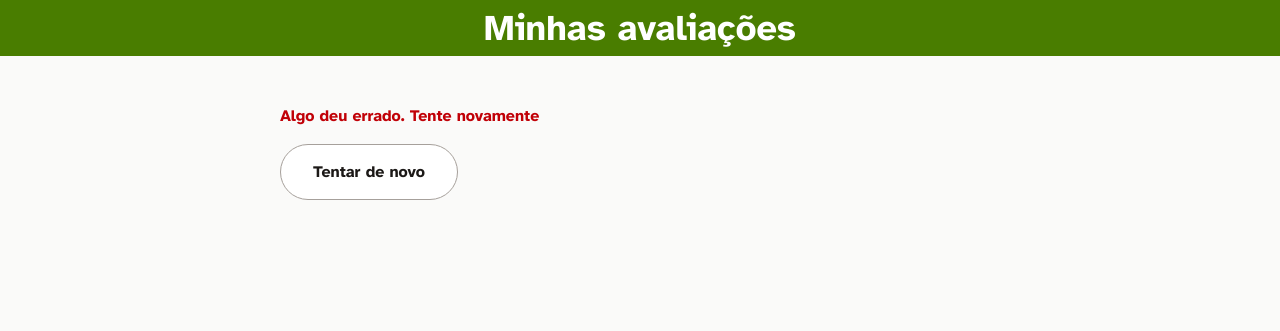
it: MyReviews › shows the error and tries again
Expected: the message shows "Algo deu errado", [280, 106, 539, 126]
What coordinates should you click on to do the following:
click the button "Tentar de novo"
I would click on:
 (369, 172)
Its box is [280, 144, 458, 200].
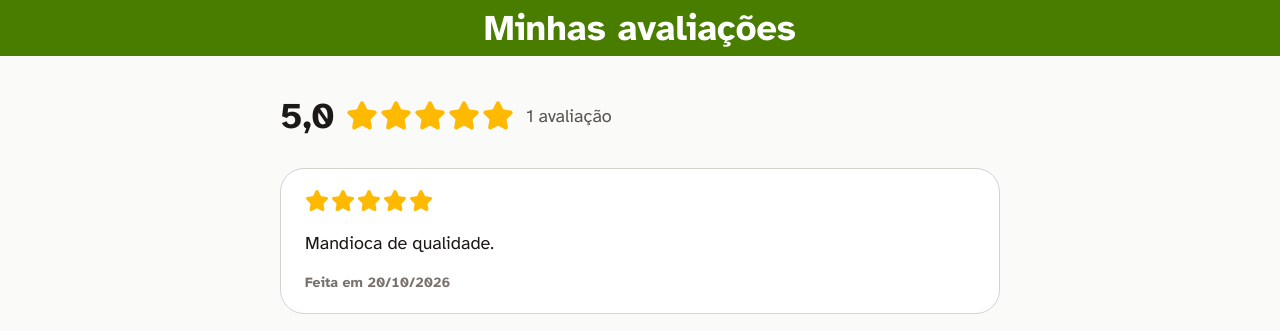
Result: the number of list items is 1 at [280, 168, 1000, 314]
Result: the message "Algo deu errado. Tente novamente" is gone
